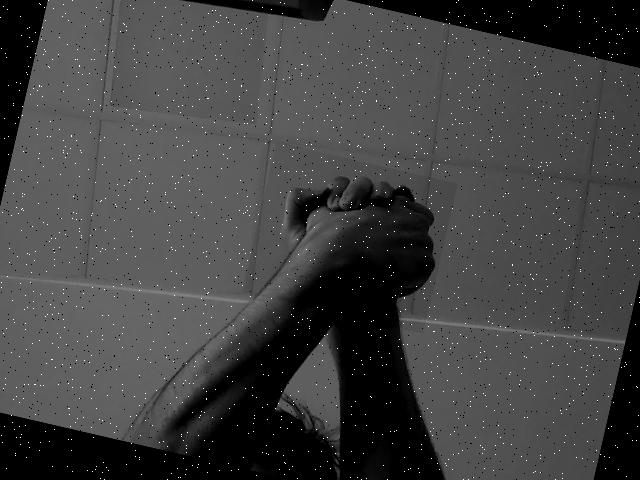friend: (242, 142, 458, 333)
